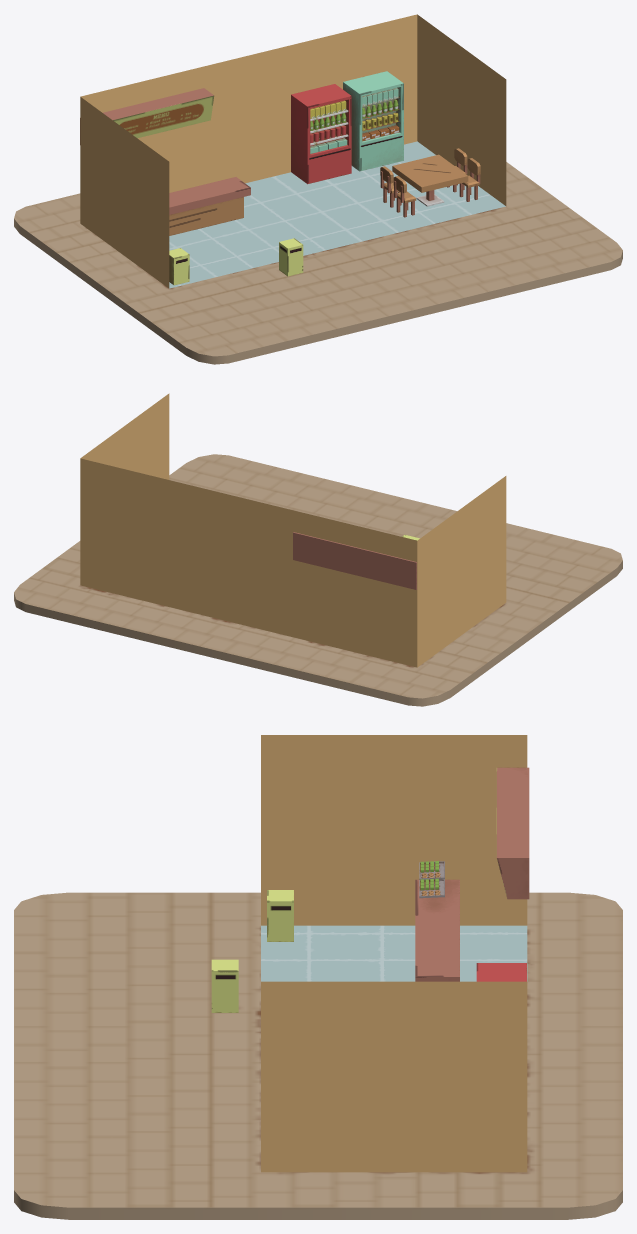
Rendered from BLD_Inside_Kantin.fbx.
3 renders of one model, top to bottom at view 1: azimuth 30°, elevation 25°; view 2: azimuth 150°, elevation 25°; view 3: azimuth 270°, elevation 25°, orthographic. The views are drawn at different scales.
Visible parts, largest first — view 1: Cube.082, Cube.041, Cube.091, Cube.102, Cube.083, Cube.092, Cube.094, Cube.093, Cube.119, Cube.097; view 2: Cube.082, Cube.041, Cube.092; view 3: Cube.041, Cube.082, Cube.092, Cube.083, Cube.119, Cube.097, Cube.091.
Boxes of the visible parts, bbox=[...] form: Cube.082: bbox=[80, 14, 506, 288]; Cube.041: bbox=[14, 162, 622, 364]; Cube.091: bbox=[291, 84, 351, 184]; Cube.102: bbox=[343, 71, 403, 171]; Cube.083: bbox=[169, 177, 250, 235]; Cube.092: bbox=[80, 88, 214, 144]; Cube.094: bbox=[380, 148, 480, 217]; Cube.093: bbox=[392, 154, 468, 192]; Cube.119: bbox=[279, 238, 303, 276]; Cube.097: bbox=[169, 248, 189, 285]; Cube.082: bbox=[80, 393, 506, 667]; Cube.041: bbox=[14, 454, 622, 706]; Cube.092: bbox=[293, 532, 416, 589]; Cube.041: bbox=[14, 892, 622, 1219]; Cube.082: bbox=[261, 735, 527, 1172]; Cube.092: bbox=[496, 767, 529, 899]; Cube.083: bbox=[415, 879, 459, 981]; Cube.119: bbox=[211, 959, 238, 1012]; Cube.097: bbox=[267, 890, 293, 941]; Cube.091: bbox=[476, 963, 526, 981].
Size of the model in its own units: 1698 by 512 by 1387.
1 material, 1 textured.
